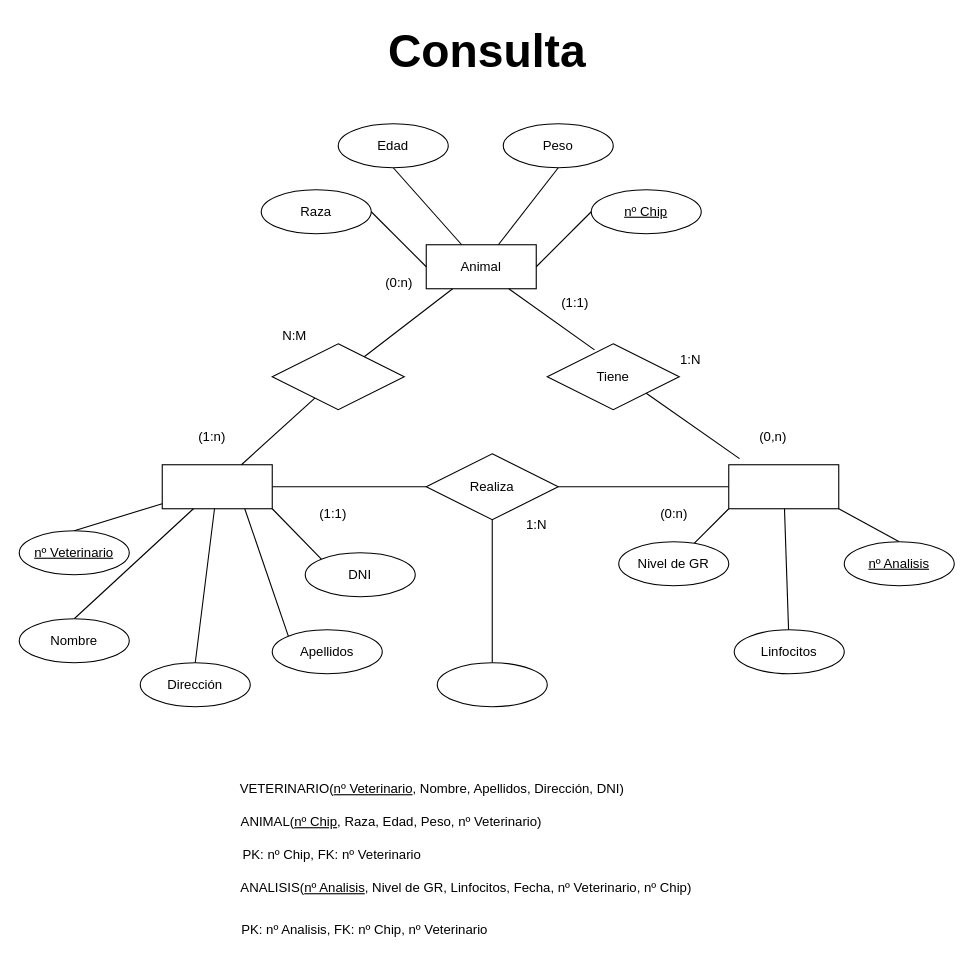
Some shapes in this 974 by 965 pixel diagram are drawn without their labels. The shapes that lost their labels are listed below. From the top down, each one's box as (x1, y1, x2, y2) in pixels, then its label:
(271, 343, 404, 410): Revisa
(161, 464, 272, 509): Veterinario
(728, 464, 839, 509): Analisis
(436, 662, 547, 707): Fecha
